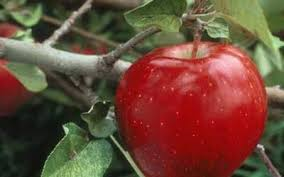apple: (116, 43, 269, 177)
